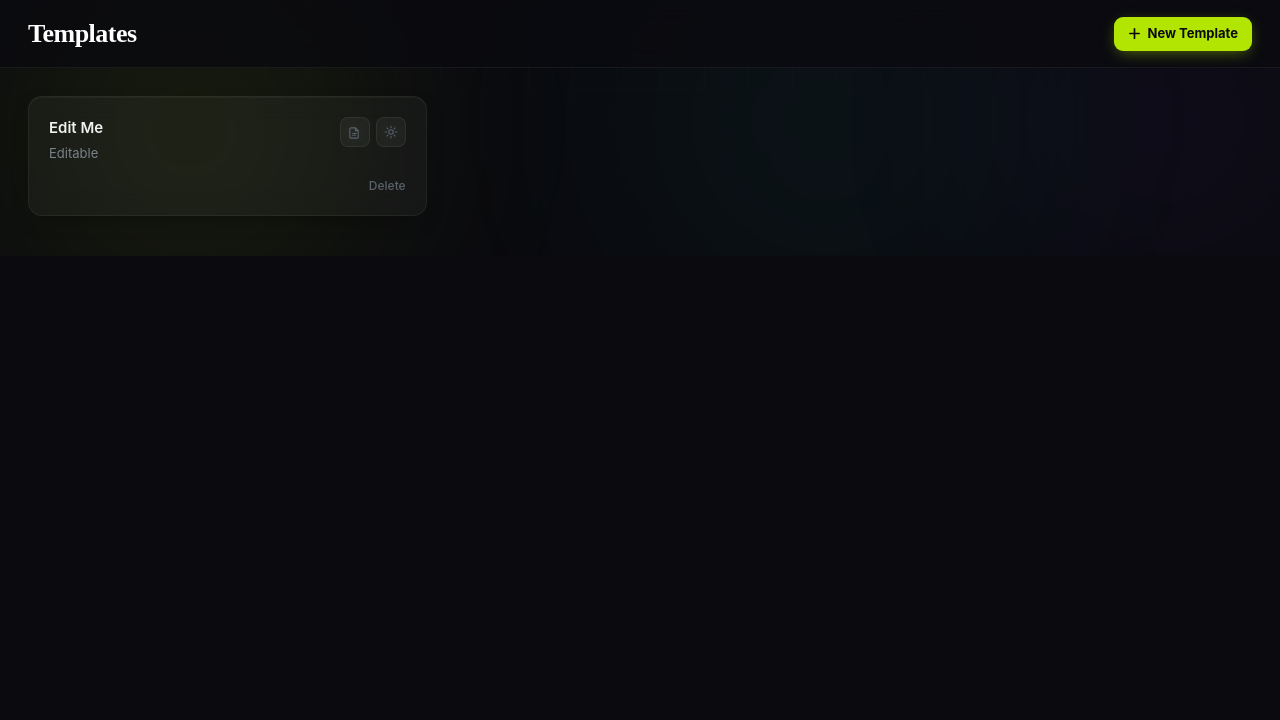
Test case: HarnessesPage › opens edit modal when clicking gear icon
The width and height of the screenshot is (1280, 720).
Expected: the heading "Edit Me" is shown, [49, 118, 103, 137]
Note: Find and click the edit (gear) button
Step 1. Click the button named "Edit Edit Me" → (391, 132), box [376, 117, 406, 147]
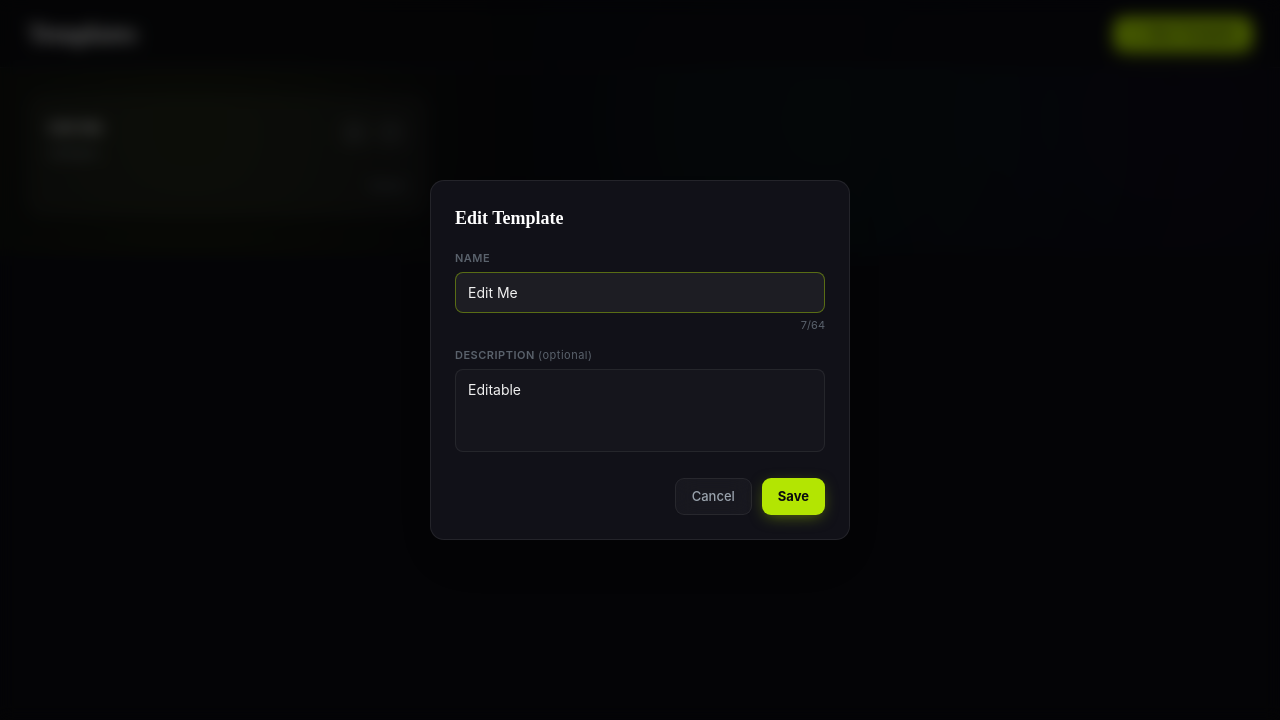
Result: the heading "Edit Template" is shown at [455, 208, 564, 228]
